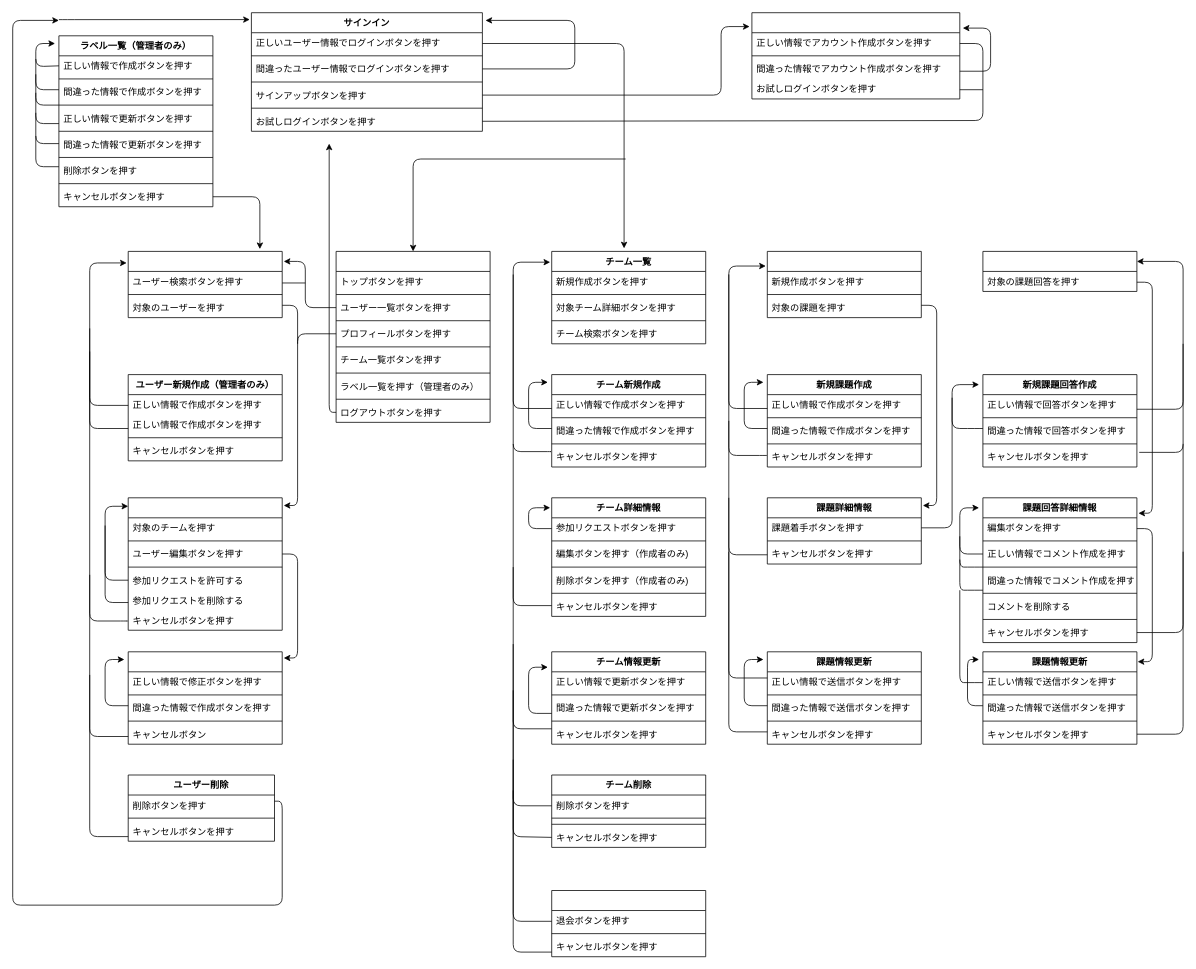
This 1196x969 diagram has some shape labels left out. The shapes that lost their labels are listed below. From the top down, each one's box as (x1, y1, x2, y2) in pixels, then its label:
(751, 12, 960, 99): サインアップ
(127, 251, 282, 318): ユーザー一覧
(767, 251, 921, 318): 課題一覧
(982, 251, 1137, 291): 課題回答一覧
(335, 251, 490, 422): ヘッダー
(127, 497, 282, 630): ユーザー情報詳細
(127, 651, 282, 744): プロフィール情報更新
(551, 890, 706, 957): チーム退会
